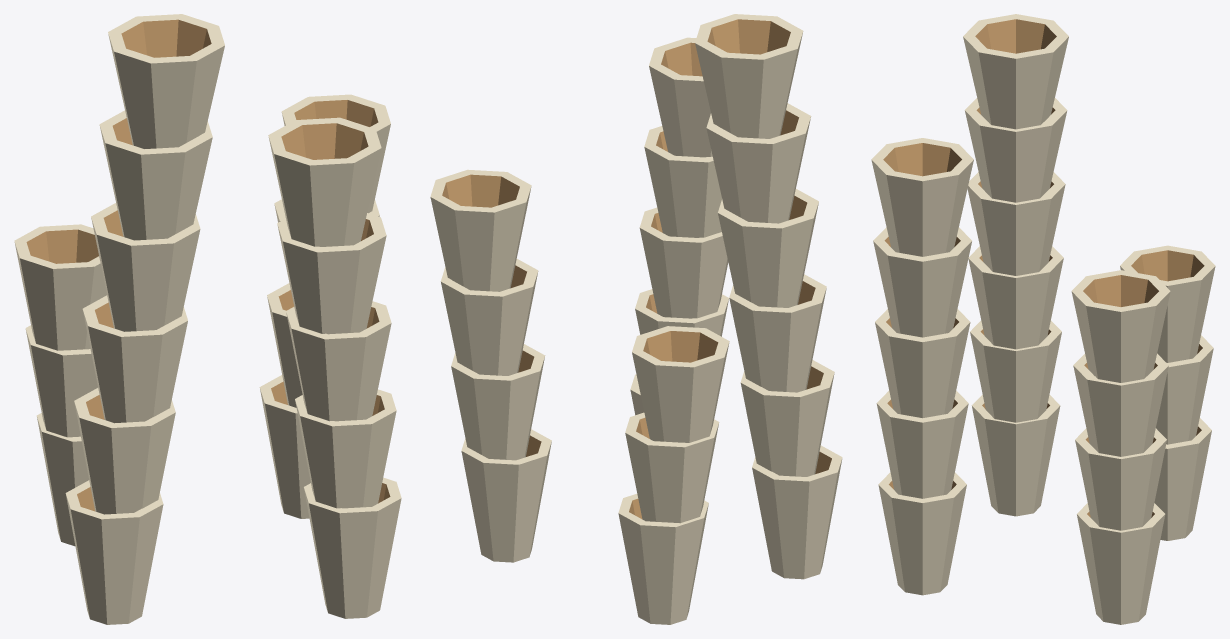
File: cloudina-shaanxi-510810.98bd7b130bf1.glb
The picture shows the model from 3 angles, left to right: view 1: azimuth 30°, elevation 25°; view 2: azimuth 150°, elevation 25°; view 3: azimuth 270°, elevation 25°; orthographic projection. The views are drawn at different scales.
Parts seen in each view (by area): view 1: cloudina-shaanxi-510810; view 2: cloudina-shaanxi-510810; view 3: cloudina-shaanxi-510810.
Boxes of the visible parts, x1=… form: cloudina-shaanxi-510810: x1=14, y1=14, x2=401, y2=624; cloudina-shaanxi-510810: x1=430, y1=14, x2=842, y2=624; cloudina-shaanxi-510810: x1=871, y1=14, x2=1215, y2=624.
Size of the model in its own units: 0.6978 by 1 by 0.6344.
